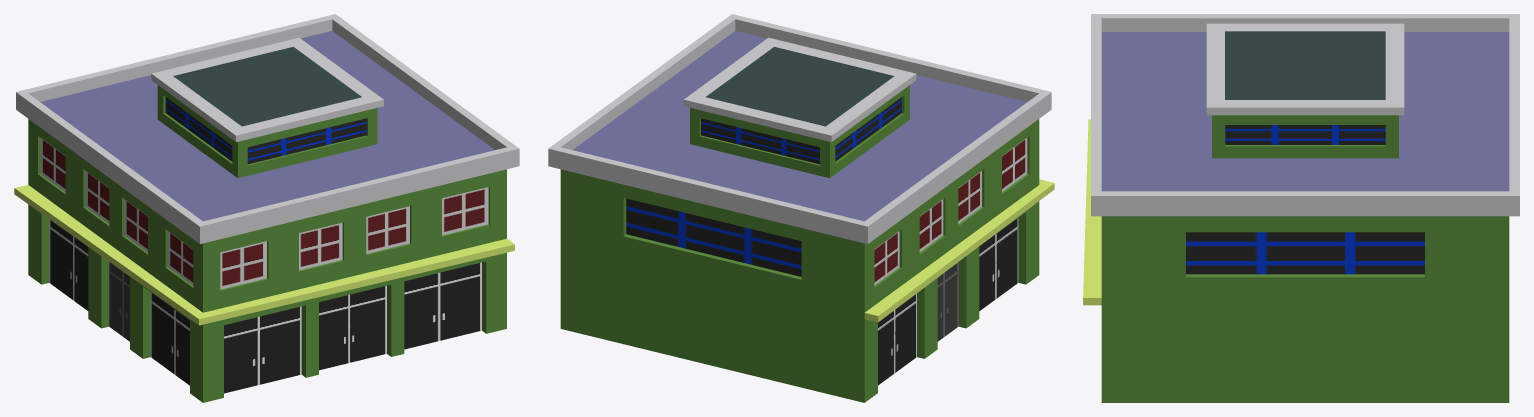
File: building3c.FBX
The picture shows the model from 3 angles, left to right: view 1: azimuth 30°, elevation 25°; view 2: azimuth 150°, elevation 25°; view 3: azimuth 270°, elevation 25°; orthographic projection. The views are drawn at different scales.
Visible parts, largest first — view 1: building3c; view 2: building3c; view 3: building3c.
Boxes of the visible parts, left/top/right/bottom form: building3c: left=14, top=14, right=519, bottom=402; building3c: left=548, top=14, right=1054, bottom=402; building3c: left=1083, top=14, right=1519, bottom=402.
Bounding box in the file's own units: 21.63 × 13.66 × 21.56.
